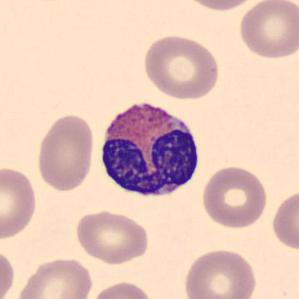Eosinophil: (93, 93, 204, 205)
RBC: (140, 32, 223, 101), (34, 112, 96, 193), (199, 163, 270, 230), (72, 208, 151, 265), (181, 246, 259, 299), (236, 0, 298, 61), (13, 255, 94, 299), (0, 165, 39, 241), (269, 187, 299, 253), (88, 279, 155, 299), (177, 0, 262, 13), (0, 245, 17, 299)
